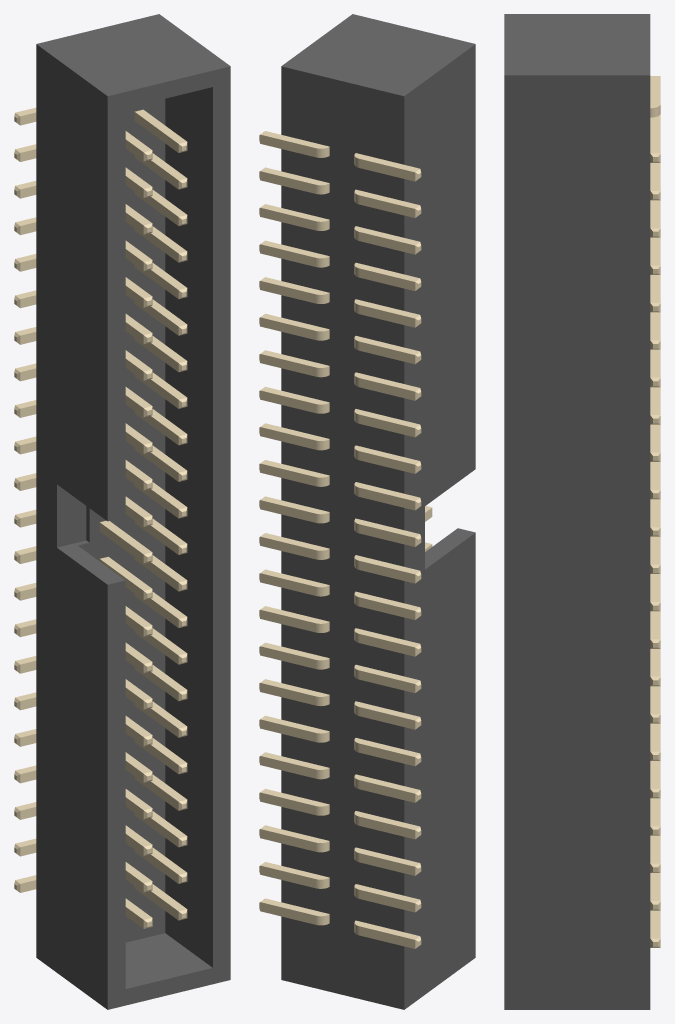
Rendered from IDC-Header_2x22_P2.54mm_Vertical_SMD.glb.
The picture shows the model from 3 angles, left to right: view 1: azimuth 30°, elevation 25°; view 2: azimuth 150°, elevation 25°; view 3: azimuth 270°, elevation 25°; orthographic projection. The views are drawn at different scales.
Visible parts, largest first — view 1: Shape_IndexedFaceSet, Shape_IndexedFaceSet.004, Shape_IndexedFaceSet.011, Shape_IndexedFaceSet.015, Shape_IndexedFaceSet.001, Shape_IndexedFaceSet.010, Shape_IndexedFaceSet.006, Shape_IndexedFaceSet.005, Shape_IndexedFaceSet.543, Shape_IndexedFaceSet.560; view 2: Shape_IndexedFaceSet.002, Shape_IndexedFaceSet, Shape_IndexedFaceSet.001, Shape_IndexedFaceSet.005, Shape_IndexedFaceSet.391, Shape_IndexedFaceSet.578, Shape_IndexedFaceSet.731, Shape_IndexedFaceSet.408, Shape_IndexedFaceSet.493, Shape_IndexedFaceSet.561, Shape_IndexedFaceSet.663, Shape_IndexedFaceSet.680 (+36 smaller); view 3: Shape_IndexedFaceSet.008, Shape_IndexedFaceSet.001.
Boxes of the visible parts, x1,y1,x2,y2 form: Shape_IndexedFaceSet: [36, 44, 107, 1009]; Shape_IndexedFaceSet.004: [107, 66, 230, 1009]; Shape_IndexedFaceSet.011: [165, 87, 212, 967]; Shape_IndexedFaceSet.015: [78, 99, 165, 942]; Shape_IndexedFaceSet.001: [36, 14, 230, 96]; Shape_IndexedFaceSet.010: [125, 933, 212, 988]; Shape_IndexedFaceSet.006: [57, 484, 86, 547]; Shape_IndexedFaceSet.005: [57, 540, 125, 584]; Shape_IndexedFaceSet.543: [15, 546, 151, 590]; Shape_IndexedFaceSet.560: [15, 509, 151, 554]; Shape_IndexedFaceSet.002: [281, 66, 404, 1009]; Shape_IndexedFaceSet: [404, 44, 475, 1009]; Shape_IndexedFaceSet.001: [281, 14, 475, 96]; Shape_IndexedFaceSet.005: [425, 528, 475, 569]; Shape_IndexedFaceSet.391: [359, 926, 415, 948]; Shape_IndexedFaceSet.578: [359, 524, 415, 546]; Shape_IndexedFaceSet.731: [359, 159, 415, 181]; Shape_IndexedFaceSet.408: [359, 890, 415, 912]; Shape_IndexedFaceSet.493: [359, 707, 415, 729]; Shape_IndexedFaceSet.561: [359, 561, 415, 583]; Shape_IndexedFaceSet.663: [359, 341, 415, 364]; Shape_IndexedFaceSet.680: [359, 305, 415, 327]; Shape_IndexedFaceSet.008: [504, 75, 650, 1009]; Shape_IndexedFaceSet.001: [504, 14, 650, 75].
Bounding box in the file's own units: 4.57 × 25 × 3.8.
